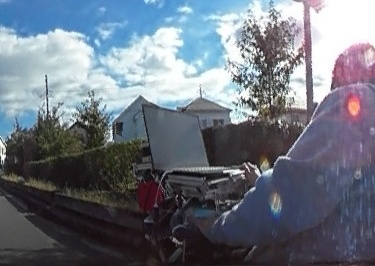person: (199, 39, 375, 266)
